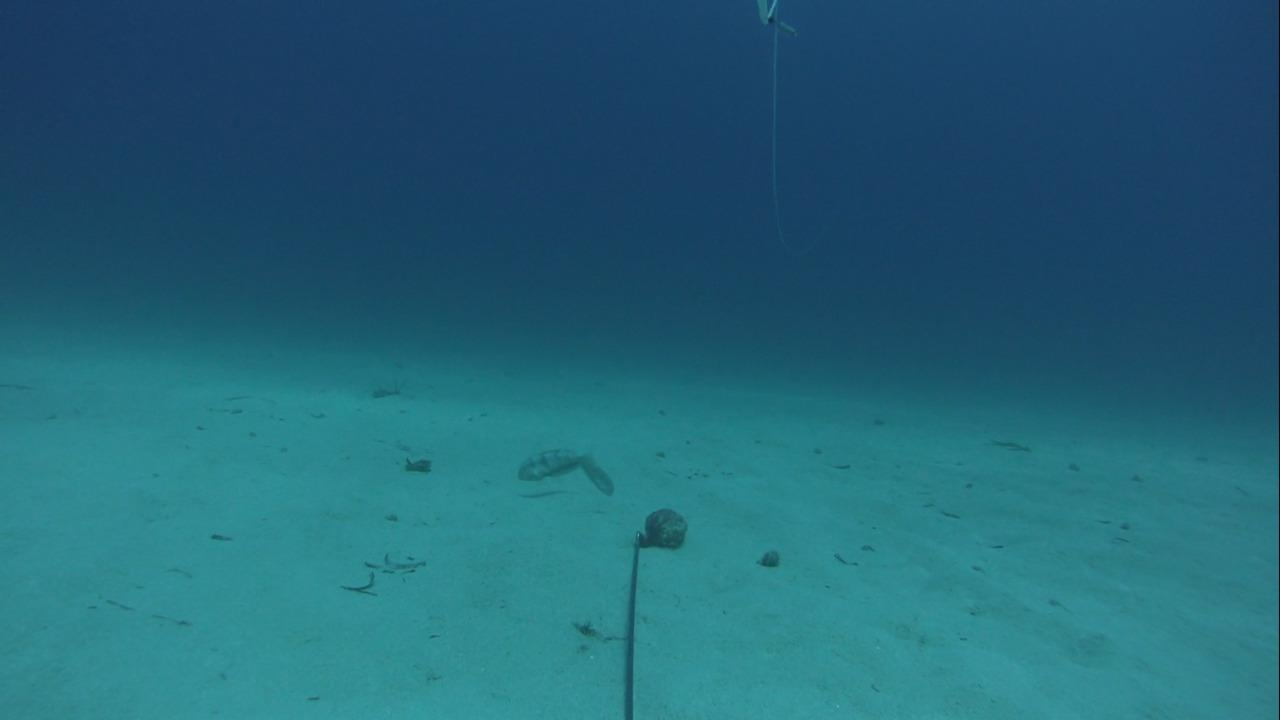raor: (513, 440, 584, 488), (573, 450, 619, 495)
